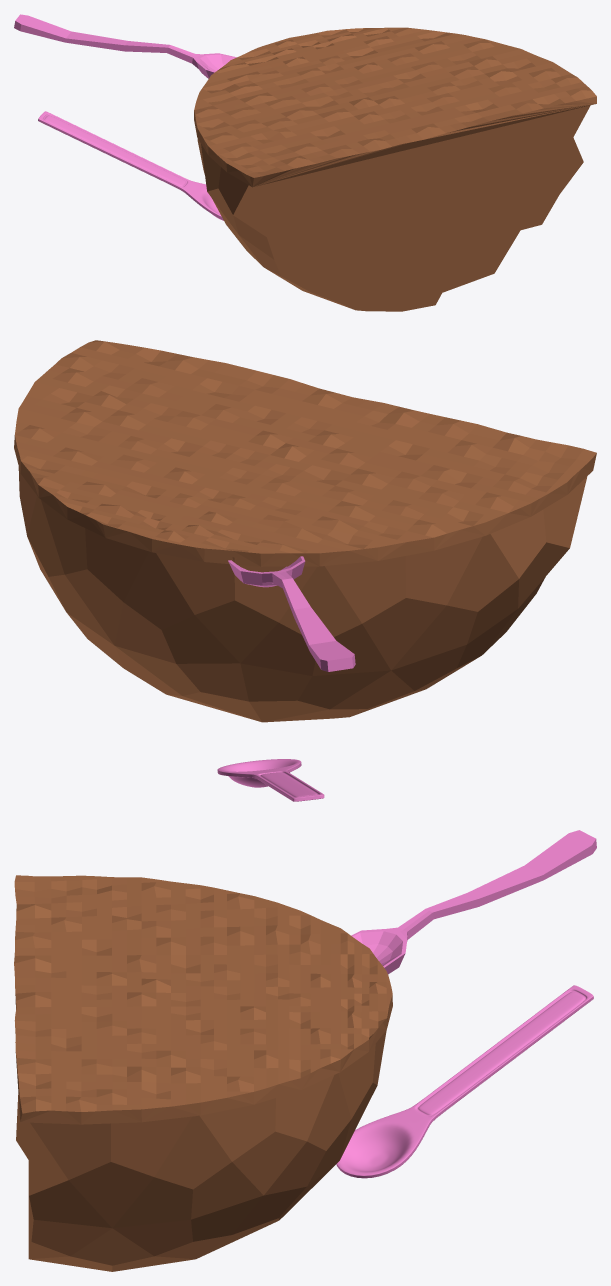
The model's file is ice cream 02(有群組).fbx.
3 renders of one model, top to bottom at view 1: azimuth 30°, elevation 25°; view 2: azimuth 150°, elevation 25°; view 3: azimuth 270°, elevation 25°, orthographic. The views are drawn at different scales.
Visible parts, largest first — view 1: Icosphere, ice cream, SPOON, spoon try; view 2: ice cream, Icosphere, SPOON, spoon try; view 3: ice cream, Icosphere, spoon try, SPOON.
Part boxes in pixels (left/top/right/bottom): Icosphere: left=197, top=105, right=590, bottom=311; ice cream: left=194, top=27, right=596, bottom=187; SPOON: left=14, top=14, right=236, bottom=78; spoon try: left=38, top=111, right=223, bottom=220; ice cream: left=14, top=340, right=596, bottom=566; Icosphere: left=18, top=466, right=587, bottom=722; SPOON: left=228, top=556, right=355, bottom=671; spoon try: left=217, top=759, right=324, bottom=801; ice cream: left=14, top=875, right=392, bottom=1124; Icosphere: left=16, top=1030, right=386, bottom=1271; spoon try: left=336, top=985, right=593, bottom=1178; SPOON: left=351, top=830, right=596, bottom=974.
Bounding box in the file's own units: 6553 × 3309 × 6260.
